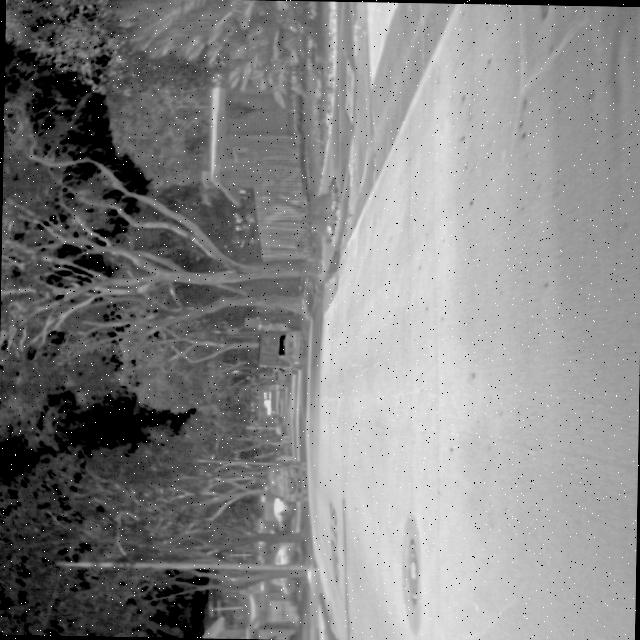Vehicle: (263, 458, 308, 504), (276, 326, 309, 365)
